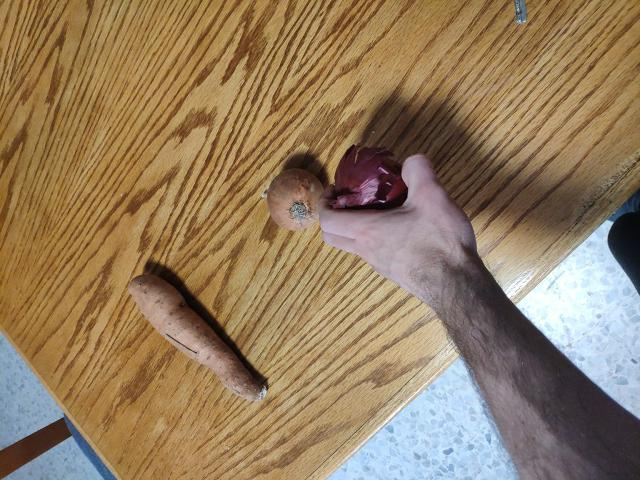onion: (267, 170, 341, 245)
